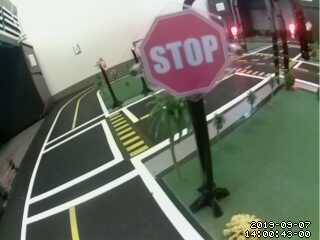Stop_Sign: (133, 12, 239, 94)
